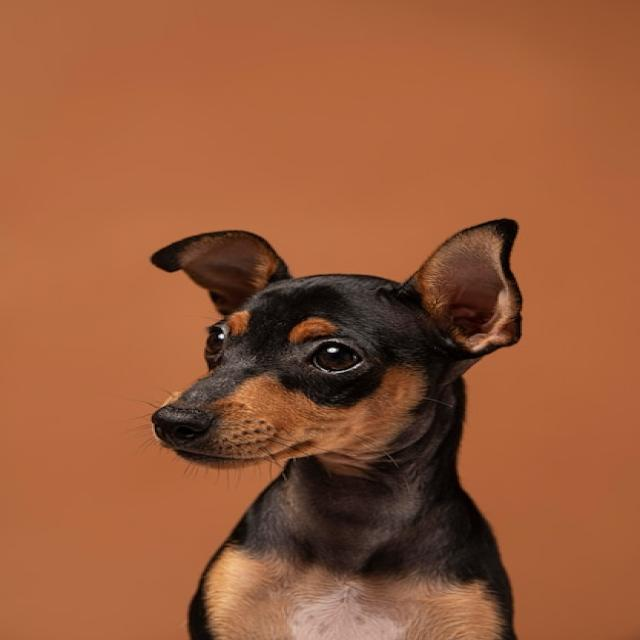Dog: (152, 217, 526, 640)
